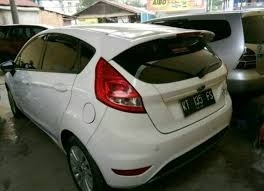plate: (178, 89, 216, 113)
